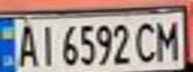2: (112, 20, 133, 65)
5: (75, 20, 96, 68)
6: (57, 21, 81, 68)
9: (93, 20, 115, 68)
A: (12, 20, 39, 69)
C: (133, 18, 160, 64)
I: (33, 21, 57, 68)
M: (151, 17, 184, 62)
